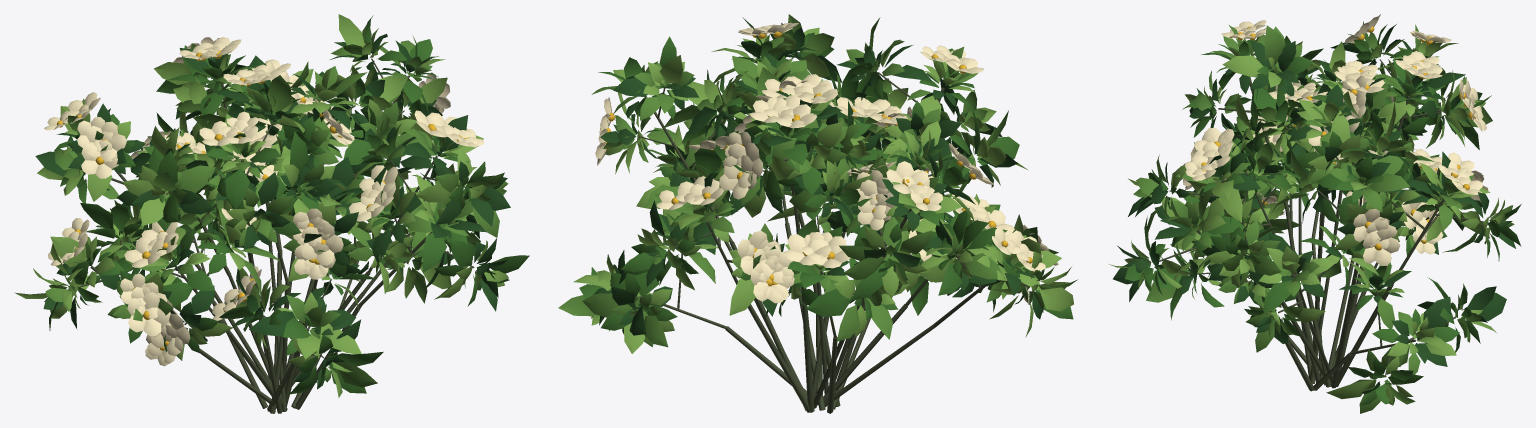
File: shrub-05-cream.glb
3 views of the same model, side by side, from view 1: azimuth 30°, elevation 25°; view 2: azimuth 150°, elevation 25°; view 3: azimuth 270°, elevation 25° (orthographic). The views are drawn at different scales.
Parts seen in each view (by area): view 1: foliage-4, foliage-2, foliage-1, foliage-3, flowers, branches, flower-centers; view 2: foliage-4, foliage-3, foliage-2, flowers, foliage-1, branches, flower-centers; view 3: foliage-4, foliage-3, foliage-2, foliage-1, flowers, branches, flower-centers.
Part boxes in pixels (bbox=[...]): foliage-4: bbox=[14, 14, 508, 397]; foliage-2: bbox=[49, 15, 529, 394]; foliage-1: bbox=[35, 34, 510, 389]; foliage-3: bbox=[44, 24, 508, 387]; flowers: bbox=[44, 37, 484, 366]; branches: bbox=[80, 58, 474, 413]; flower-centers: bbox=[57, 50, 468, 350]; foliage-4: bbox=[574, 27, 1073, 353]; foliage-3: bbox=[558, 14, 1077, 347]; foliage-2: bbox=[579, 23, 1073, 334]; flowers: bbox=[595, 22, 1058, 303]; foliage-1: bbox=[593, 17, 1042, 335]; branches: bbox=[638, 57, 1029, 413]; flower-centers: bbox=[605, 31, 1032, 286]; foliage-4: bbox=[1109, 28, 1505, 405]; foliage-3: bbox=[1133, 24, 1514, 413]; foliage-2: bbox=[1125, 21, 1521, 405]; foliage-1: bbox=[1113, 24, 1515, 394]; flowers: bbox=[1183, 14, 1488, 265]; branches: bbox=[1159, 59, 1483, 391]; flower-centers: bbox=[1201, 26, 1475, 250].
Size of the model in its own units: 1.51 by 1.14 by 1.24.
